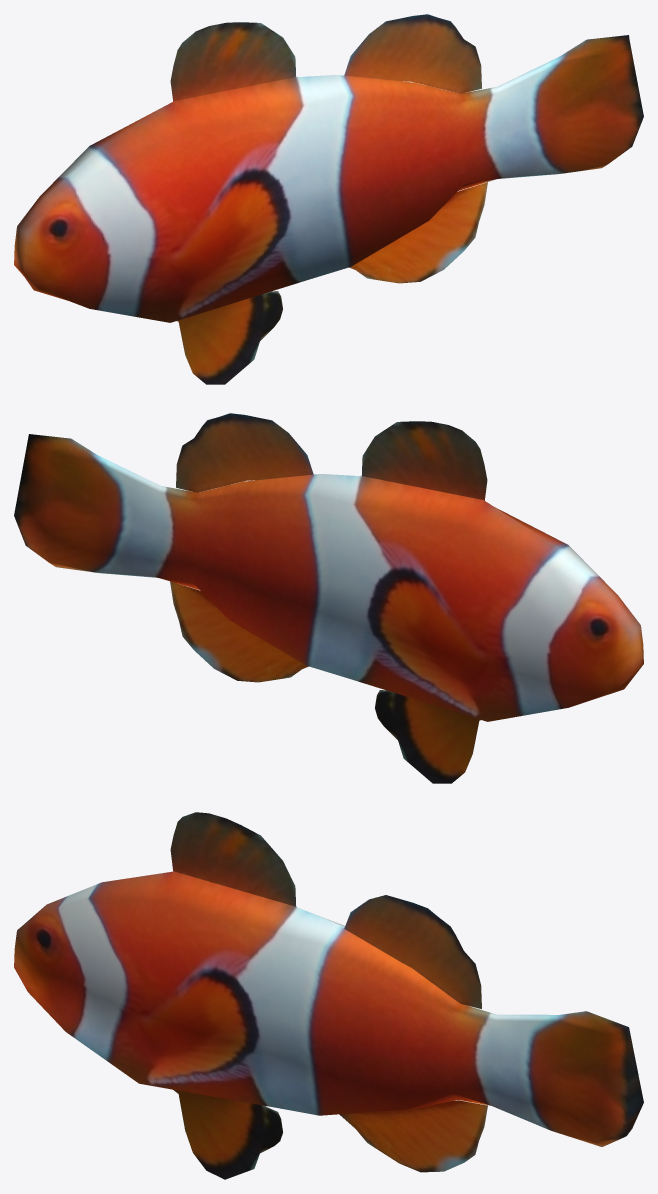
File: クマノミnew.glb
3 renders of one model, top to bottom at view 1: azimuth 30°, elevation 25°; view 2: azimuth 150°, elevation 25°; view 3: azimuth 330°, elevation 25°, orthographic.
Parts seen in each view (by area): view 1: 立方体; view 2: 立方体; view 3: 立方体.
Boxes of the visible parts, x1,y1,x2,y2 form: 立方体: (14,14,643,384); 立方体: (14,413,643,783); 立方体: (14,812,643,1179).
Bounding box in the file's own units: 3.26 × 1.83 × 0.2882.
1 material, 1 textured.
